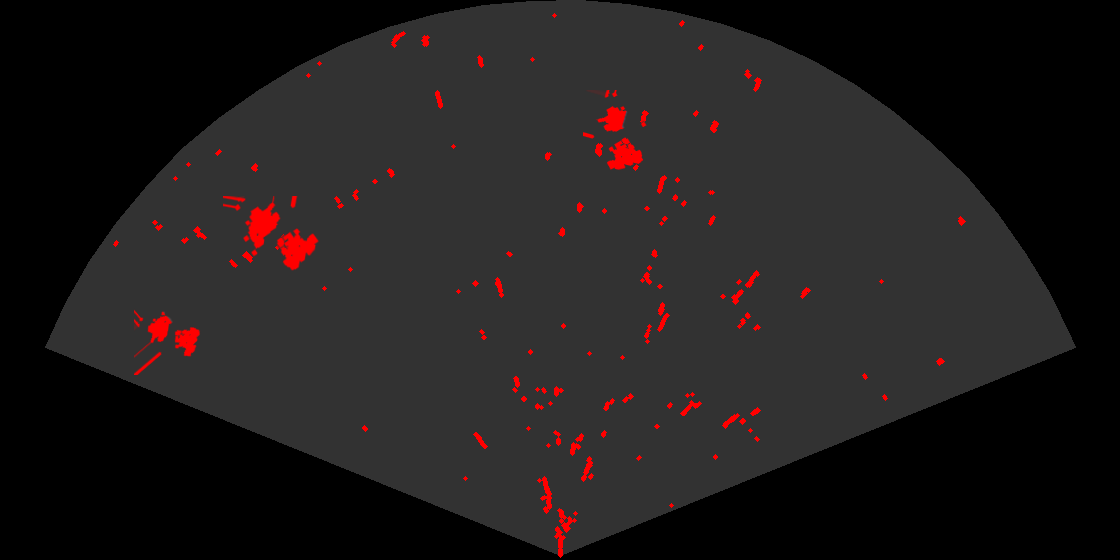cage: (223, 196, 320, 272), (583, 90, 648, 172), (134, 308, 202, 375)
